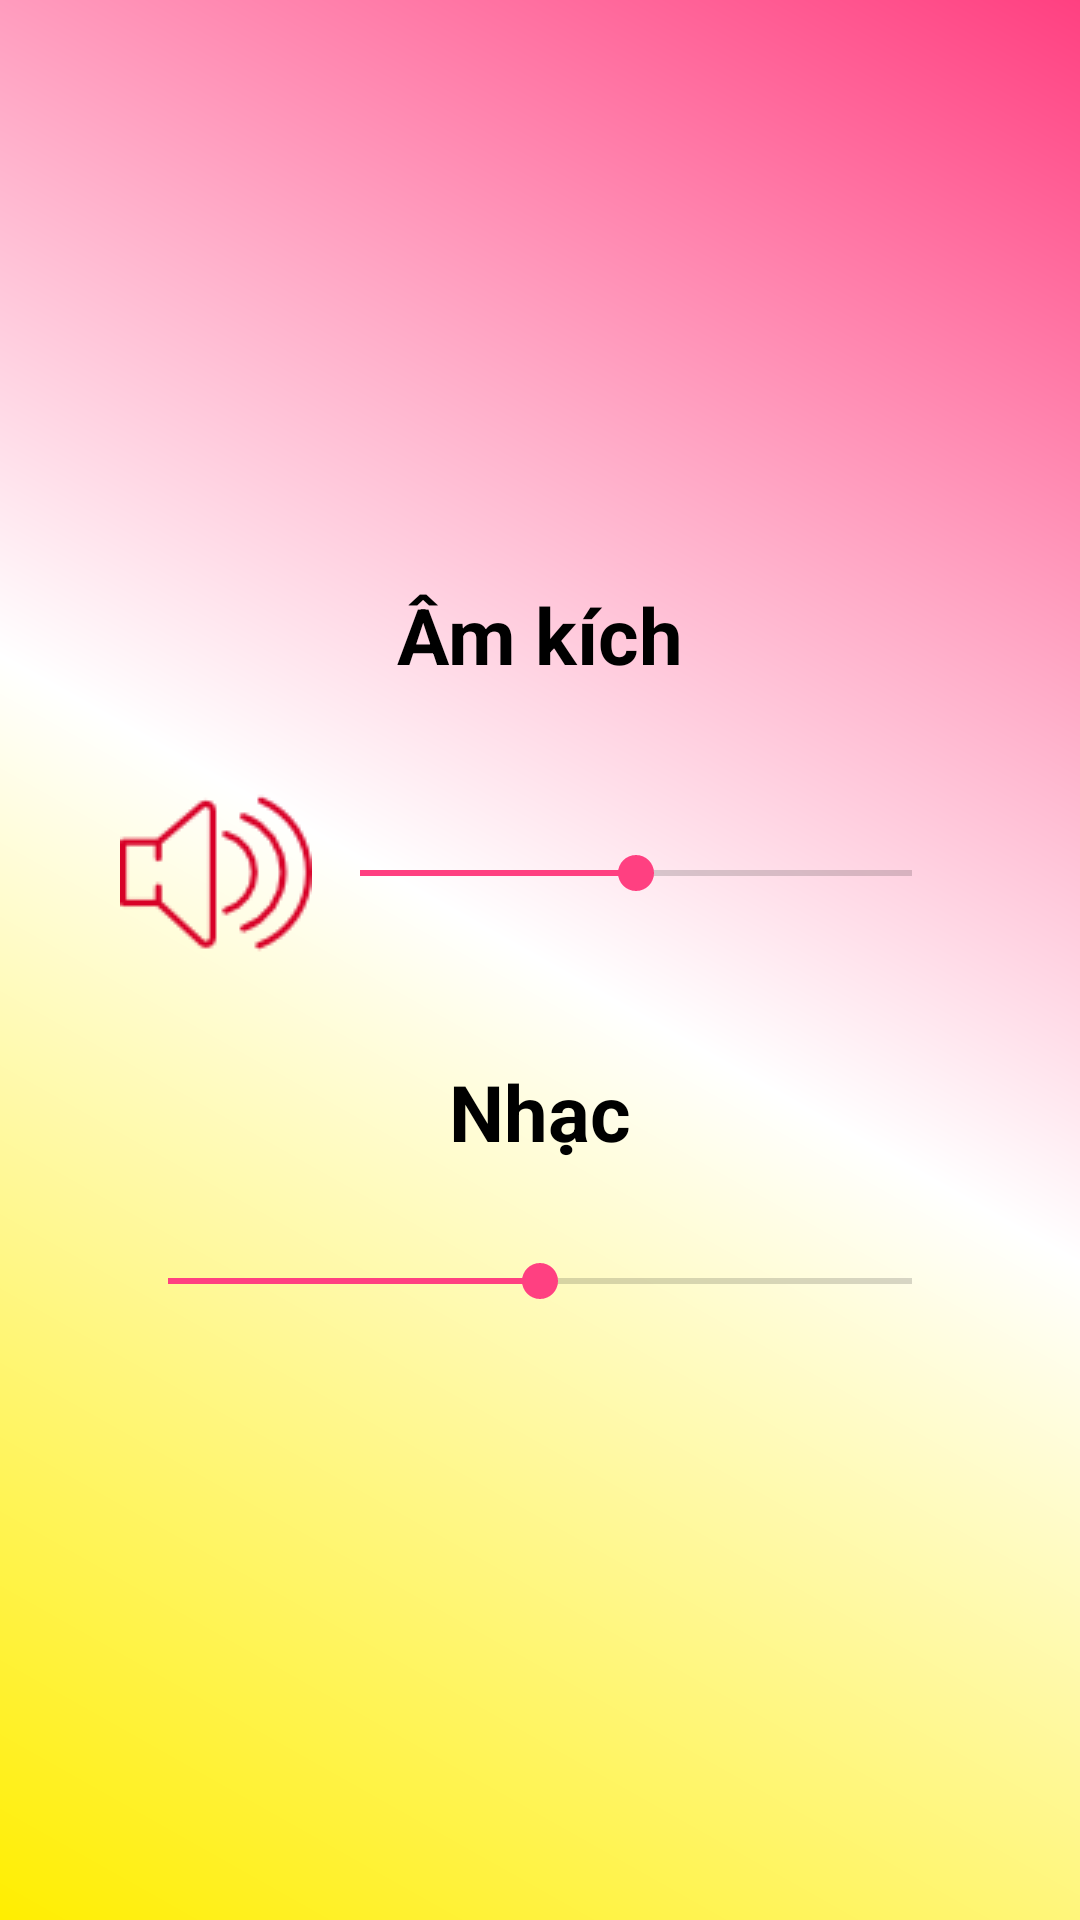

Icons on this 1080w x 1920h Android screen, each with the point to tap as point (x, y):
speaker: point (216, 882)
